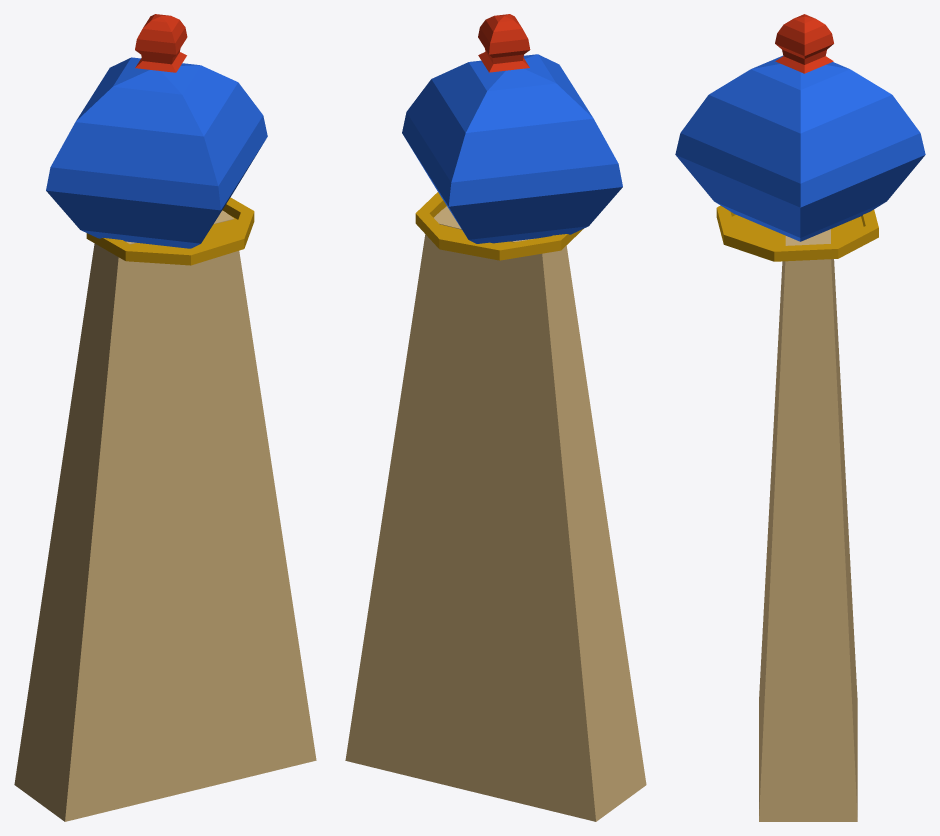
Rendered from Castle2.fbx.
The picture shows the model from 3 angles, left to right: view 1: azimuth 30°, elevation 25°; view 2: azimuth 150°, elevation 25°; view 3: azimuth 270°, elevation 25°; orthographic projection. The views are drawn at different scales.
Parts seen in each view (by area): view 1: Join, WallTop, Connection, LilTop; view 2: Join, WallTop, Connection, LilTop; view 3: Join, WallTop, Connection, LilTop.
Part boxes in pixels (<box>): Join: <box>14,210,316,821</box>; WallTop: <box>46,57,267,248</box>; Connection: <box>86,197,254,265</box>; LilTop: <box>135,14,187,72</box>; Join: <box>345,206,646,821</box>; WallTop: <box>402,54,622,243</box>; Connection: <box>415,192,583,260</box>; LilTop: <box>478,14,530,72</box>; Join: <box>759,229,857,821</box>; WallTop: <box>675,55,925,241</box>; Connection: <box>716,205,878,261</box>; LilTop: <box>775,14,833,73</box>.
Size of the model in its own units: 119 by 343 by 105.
